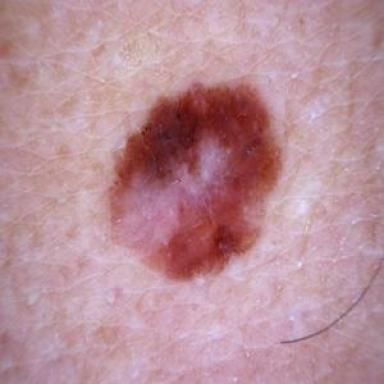Melanoma: (111, 85, 280, 279)
